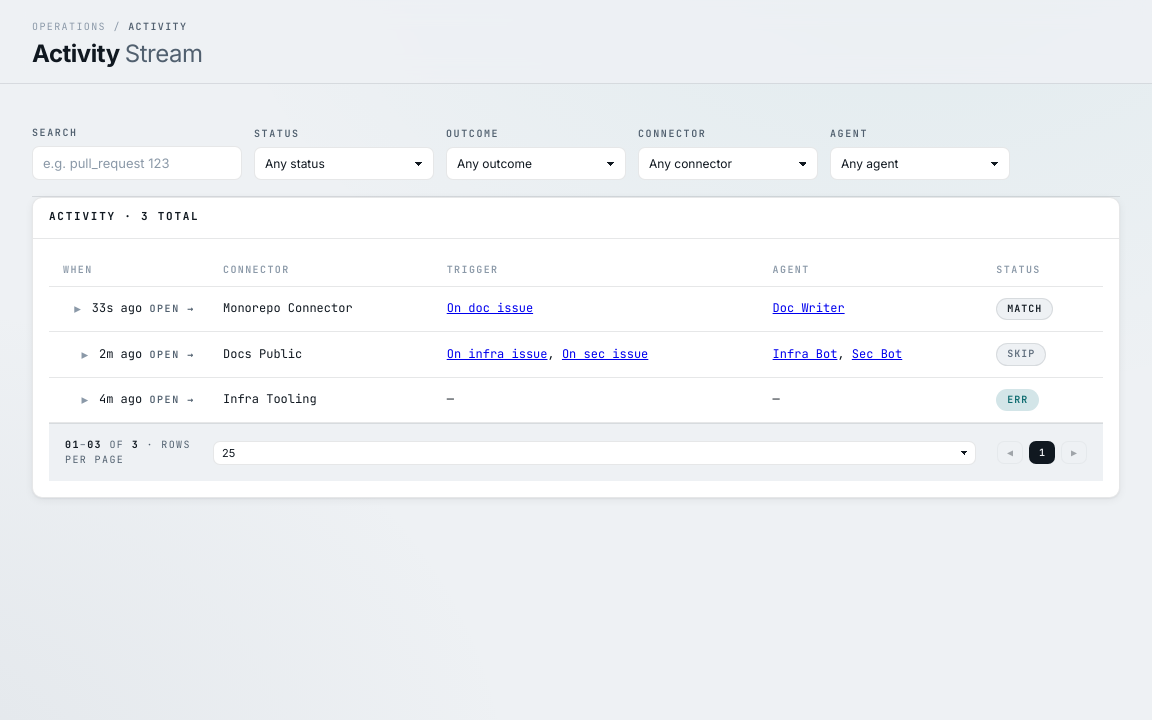
it: Activity › filters events by search query matching payload content
This screenshot has width=1152, height=720.
expect the link with aria-label "Open event e1" is shown: met, box x1=49 y1=286 x2=1103 y2=332
Type "pull_request" into the field named "search events" at [137, 163], box x1=32 y1=146 x2=242 y2=180
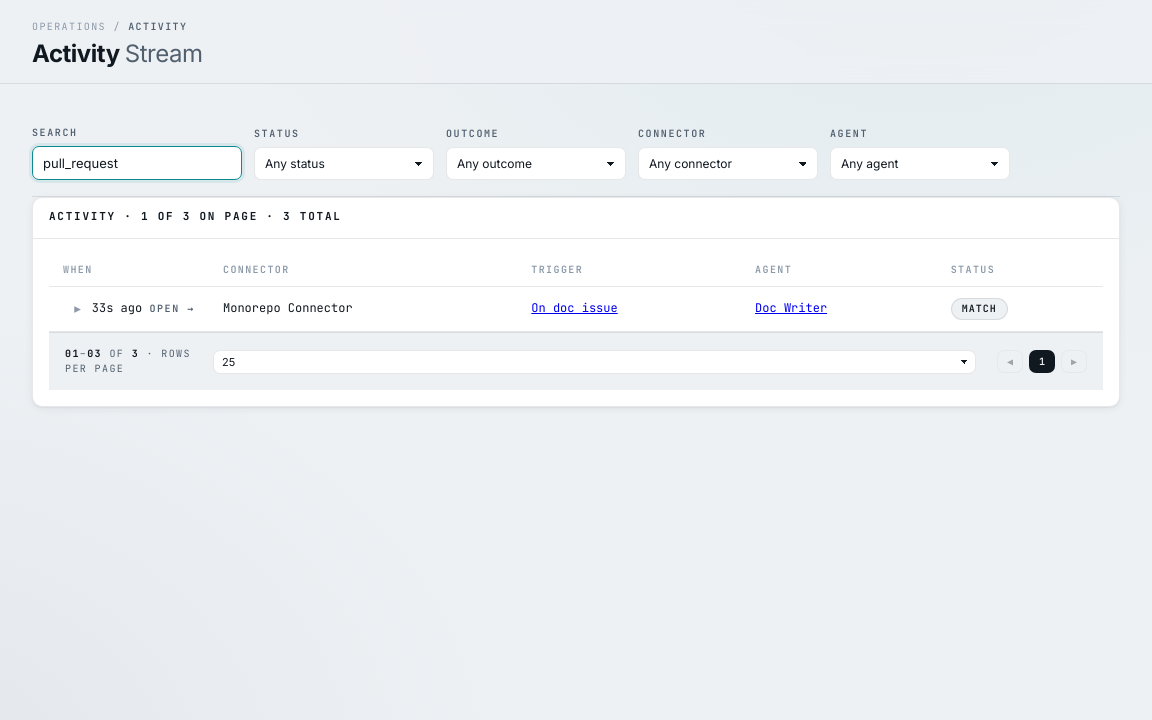
expect the table shows "Monorepo Connector": met, box x1=223 y1=300 x2=353 y2=316
expect the link "Infra Tooling" no longer shows "Infra Tooling": met
expect the link "Docs Public" no longer shows "Docs Public": met
